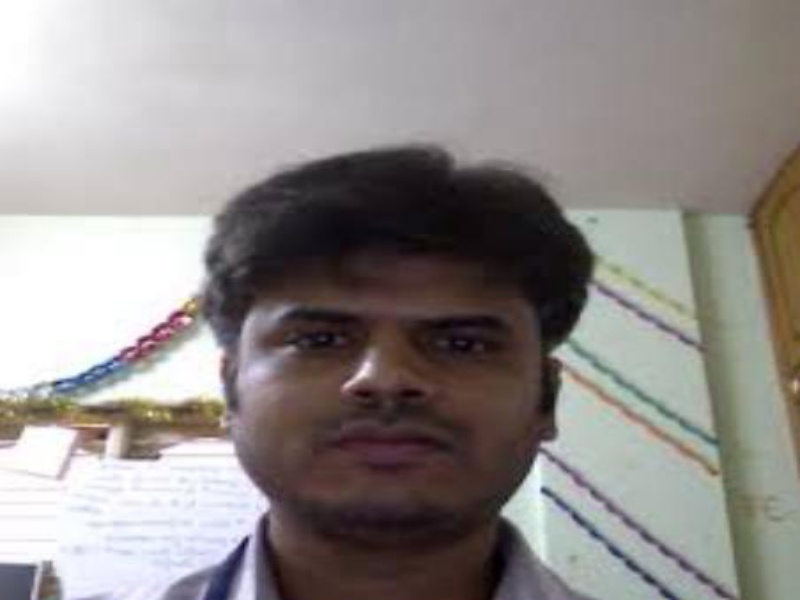TsisyArotava: (171, 156, 604, 558)
